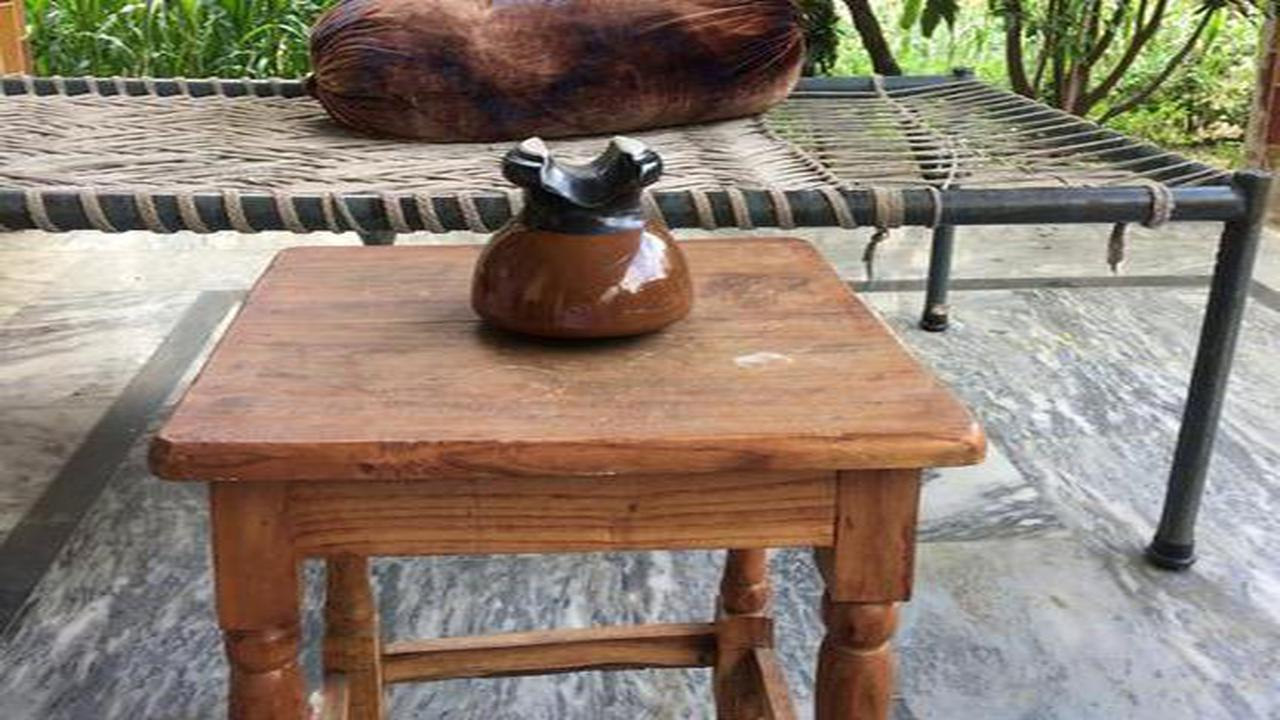insulator_pin: (456, 120, 717, 359)
